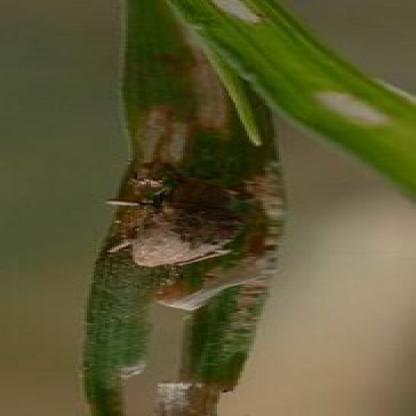rice-bug: (99, 171, 250, 266)
